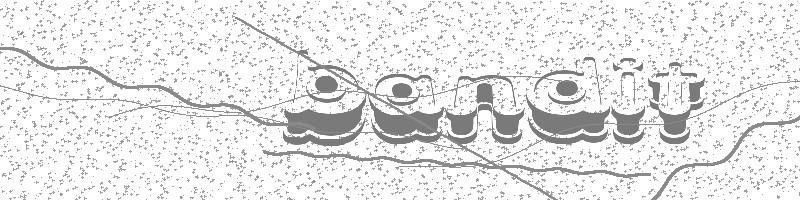a: (369, 71, 445, 146)
b: (282, 49, 368, 147)
d: (526, 55, 610, 145)
i: (610, 57, 647, 145)
n: (445, 73, 525, 147)
t: (647, 61, 705, 145)
